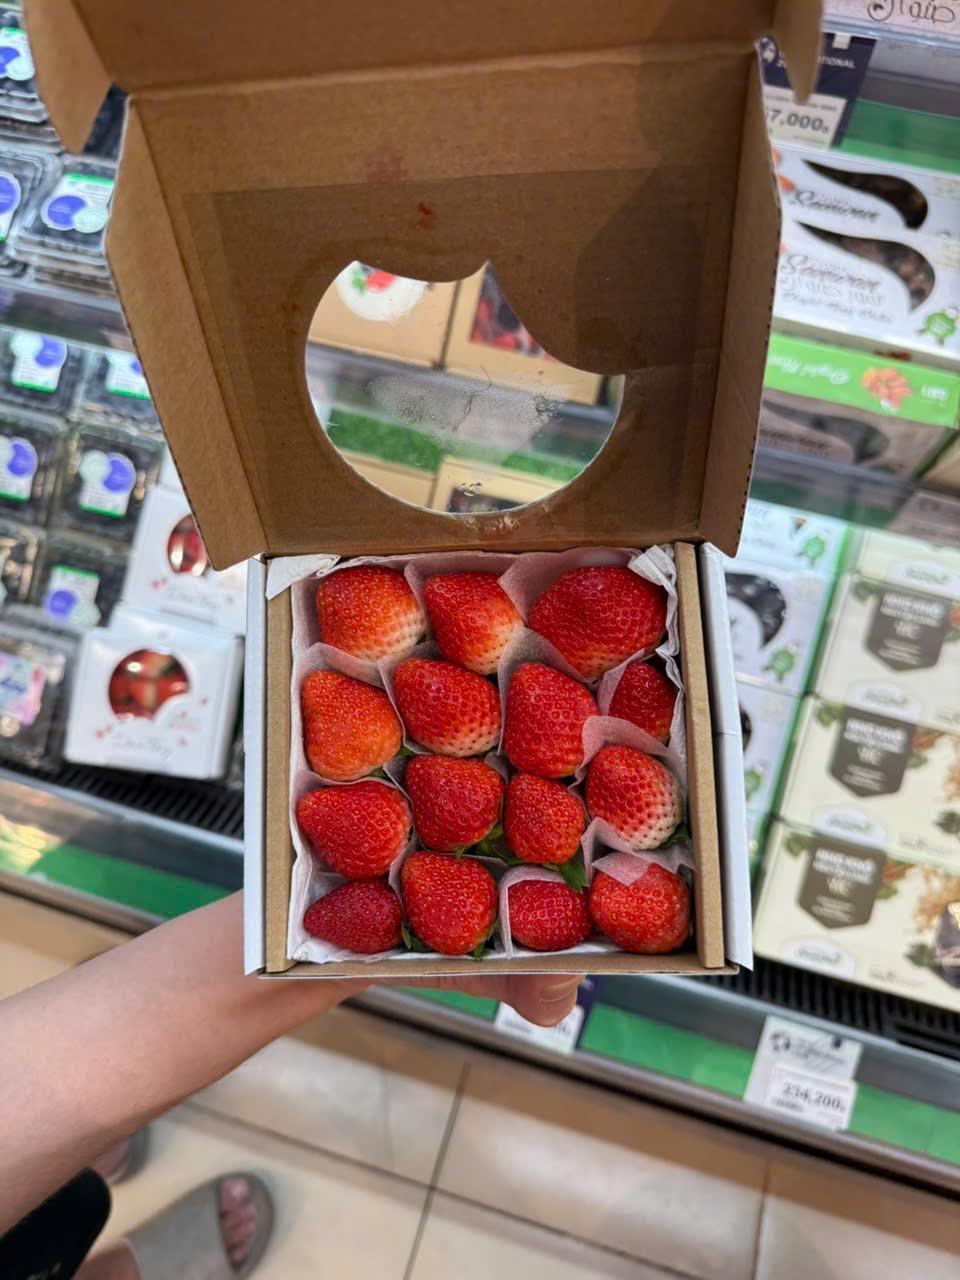strawberry: (530, 553, 659, 658), (301, 663, 400, 784), (502, 655, 602, 774), (402, 841, 502, 957), (395, 655, 504, 758), (305, 565, 422, 660), (290, 778, 408, 868), (585, 748, 686, 850), (590, 856, 694, 951), (428, 568, 526, 668), (405, 751, 502, 846), (500, 763, 592, 860), (305, 881, 402, 951), (602, 655, 678, 744), (512, 871, 586, 945)
